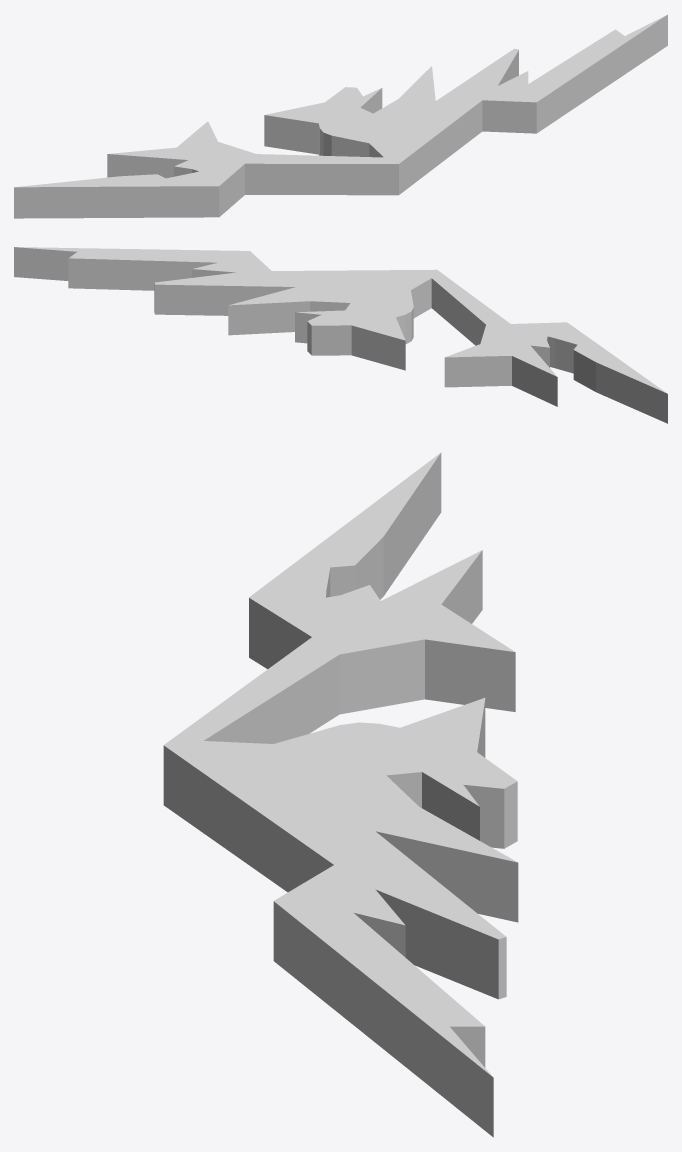
File: Mountain_3D_03.fbx
3 views of the same model, one above another, from view 1: azimuth 30°, elevation 25°; view 2: azimuth 150°, elevation 25°; view 3: azimuth 270°, elevation 25° (orthographic). The views are drawn at different scales.
Visible parts, largest first — view 1: Mountain_3D_03; view 2: Mountain_3D_03; view 3: Mountain_3D_03.
Boxes of the visible parts, box(x1,y1,x2,y2) form: Mountain_3D_03: box(14, 14, 667, 218); Mountain_3D_03: box(14, 247, 667, 423); Mountain_3D_03: box(163, 452, 518, 1137).
Size of the model in its own units: 224 by 10 by 53.61.
